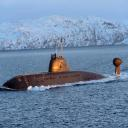submarine: (2, 32, 125, 95)
